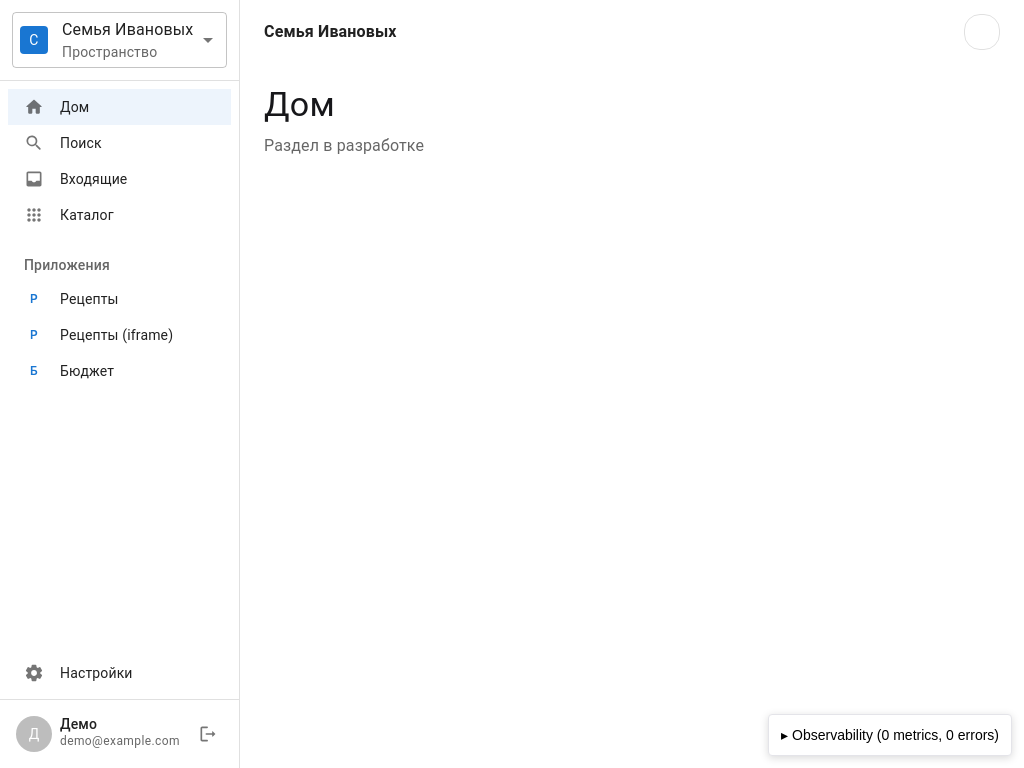
Test case: HostChrome › shows a timeout state in the slot without crashing the chrome
Click the link "Р Рецепты". click: (74, 299)
box: [30,291,119,307]
Wait 10000 ms
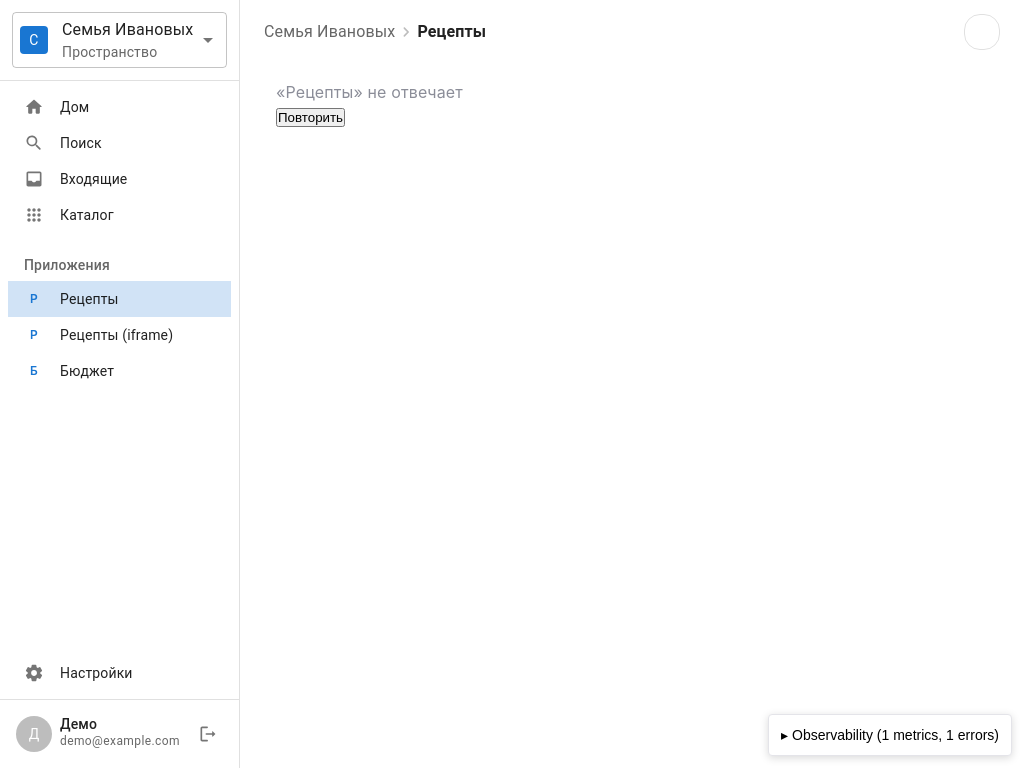
expect the link "Р Рецепты" is shown: met, box [8,281,231,317]
expect the text "«Рецепты» не отвечает" is shown: met, box [276,82,463,102]
